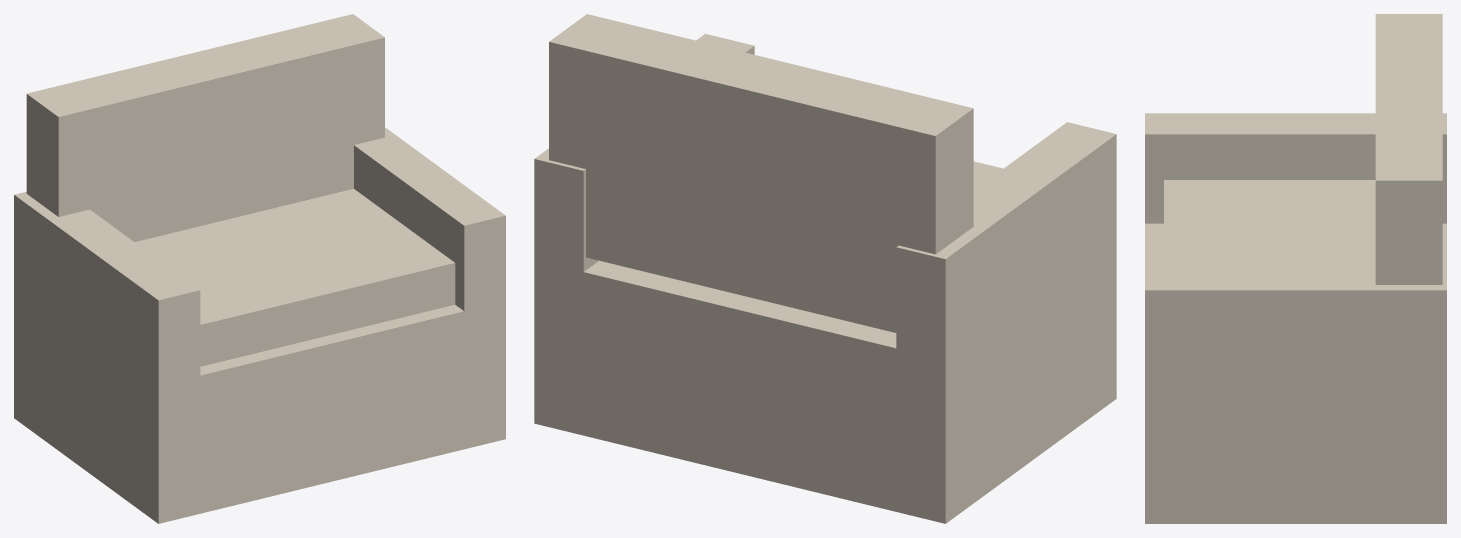
Rendered from sofa.glb.
3 renders of one model, left to right at view 1: azimuth 30°, elevation 25°; view 2: azimuth 150°, elevation 25°; view 3: azimuth 270°, elevation 25°, orthographic. The views are drawn at different scales.
Visible parts, largest first — view 1: sofa base, back, seat cushion, left arm, right arm; view 2: sofa base, back, left arm, right arm; view 3: sofa base, right arm, seat cushion, back, left arm.
Part boxes in pixels (left/top/right/bottom): sofa base: left=14, top=296, right=505, bottom=523; back: left=26, top=14, right=384, bottom=241; seat cushion: left=135, top=188, right=455, bottom=366; left arm: left=14, top=191, right=200, bottom=427; right arm: left=354, top=127, right=505, bottom=347; sofa base: left=534, top=235, right=1116, bottom=523; back: left=549, top=14, right=973, bottom=332; left arm: left=896, top=122, right=1116, bottom=409; right arm: left=534, top=34, right=754, bottom=312; sofa base: left=1145, top=223, right=1446, bottom=523; right arm: left=1145, top=269, right=1446, bottom=423; seat cushion: left=1164, top=180, right=1375, bottom=268; back: left=1375, top=14, right=1442, bottom=284; left arm: left=1145, top=113, right=1446, bottom=223.
Size of the model in its own units: 1 by 0.89 by 0.72.
